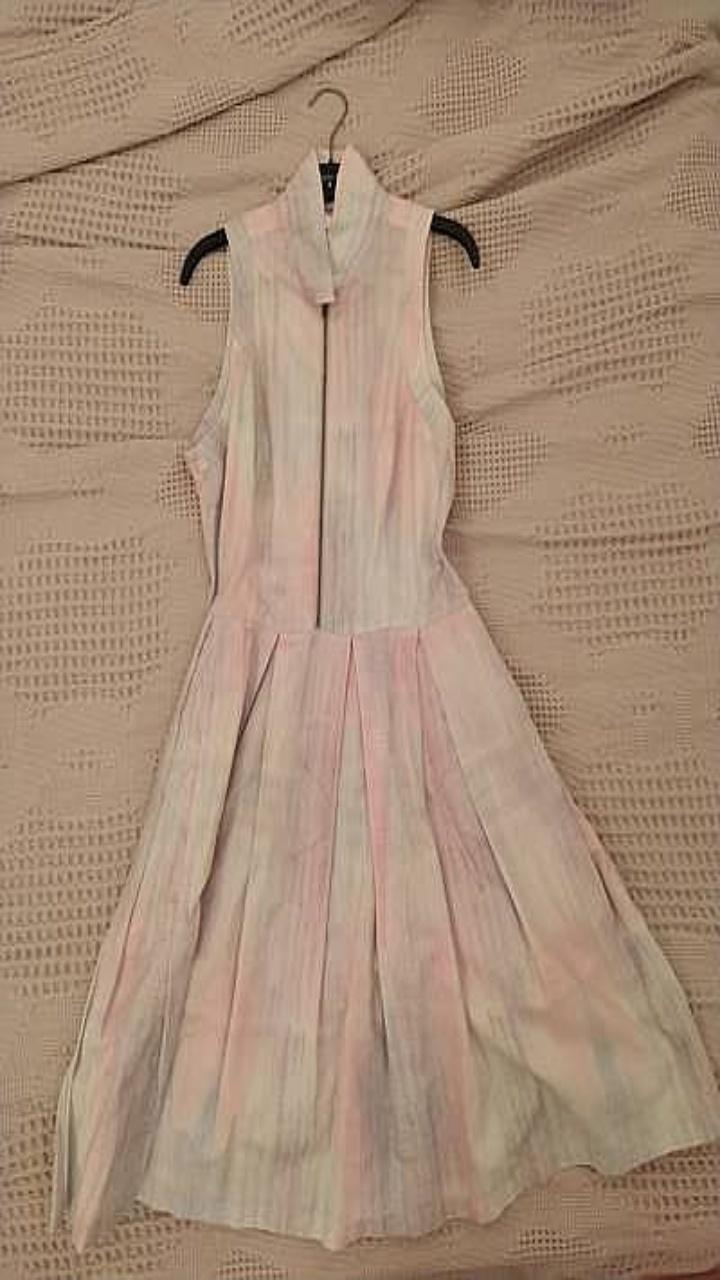Dresses: (51, 145, 719, 1250)
